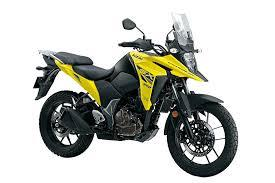motorcycle: (21, 9, 247, 182)
